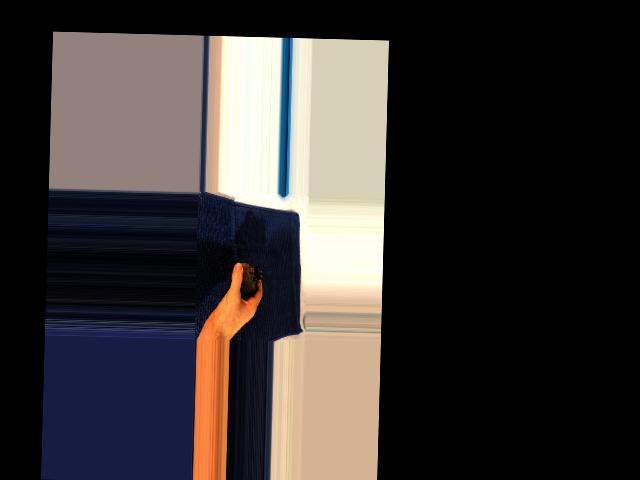beet: (217, 261, 261, 298)
